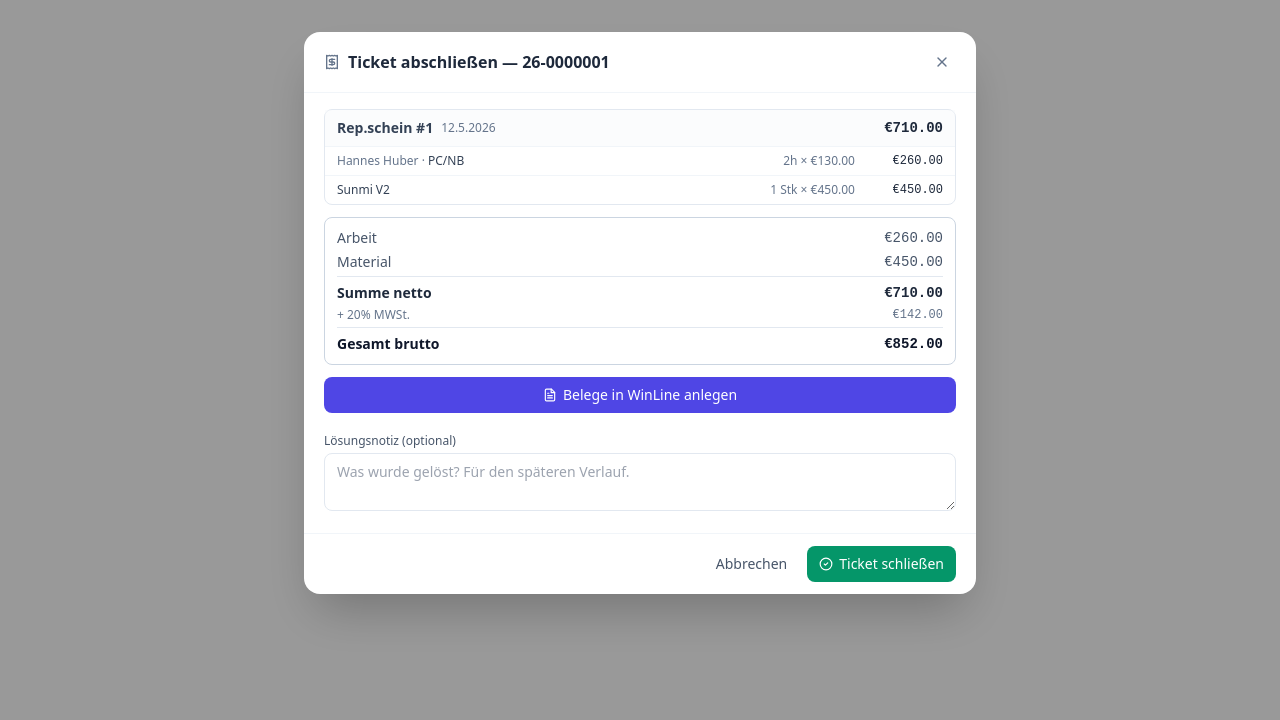
TicketBillingPreview › admin creates Belege and sees the created Beleg-Keys
Expected: the element with test id "billing-summary" is shown, [324,109,956,365]
Click the button with test id "create-belege" at (640,395), box [324,377,956,413]
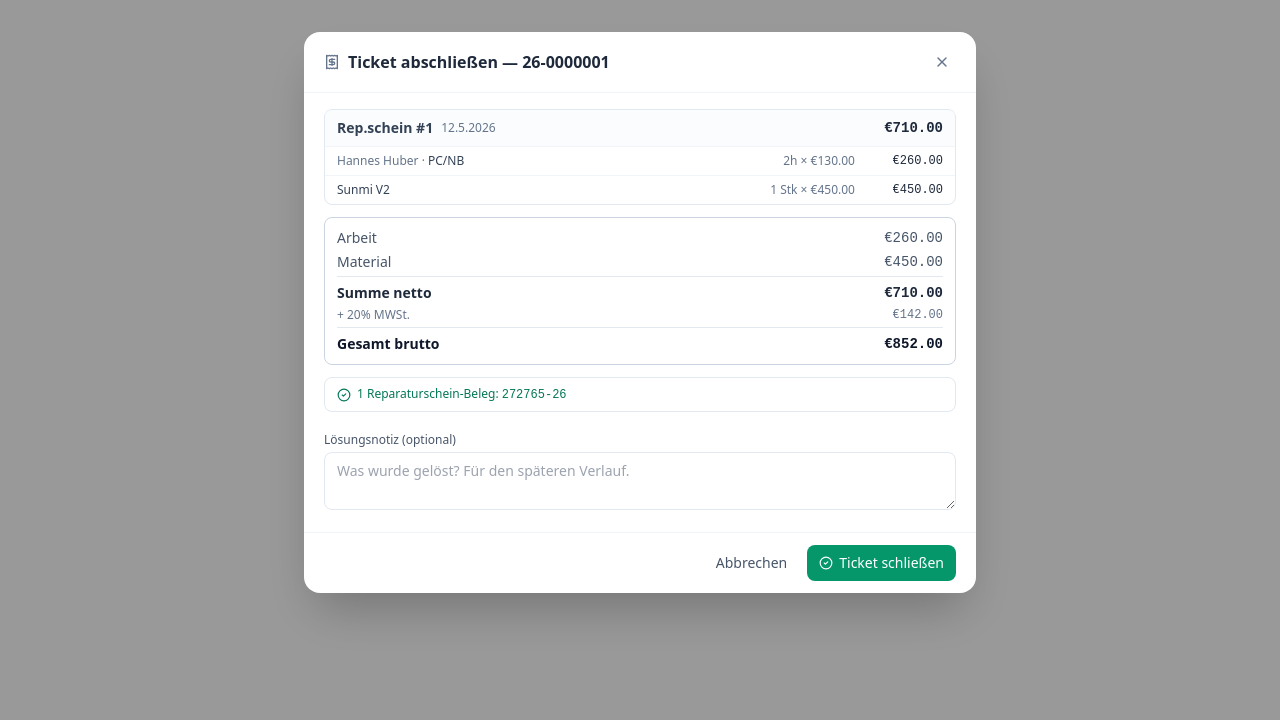
Expected: the element with test id "beleg-export-result" is shown, [324,377,956,412]
Expected: the text "272765-26" is shown, [502,388,566,402]
